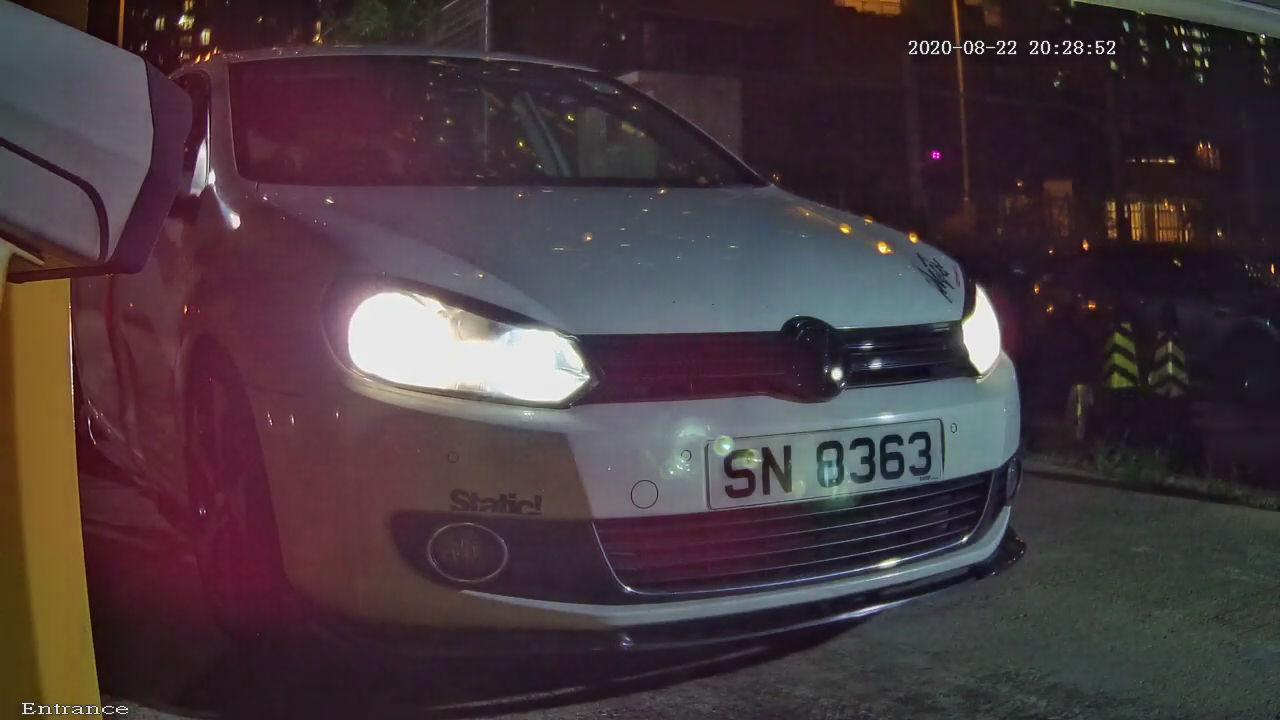Car: (29, 17, 1161, 708)
License Plate: (666, 376, 995, 545)
